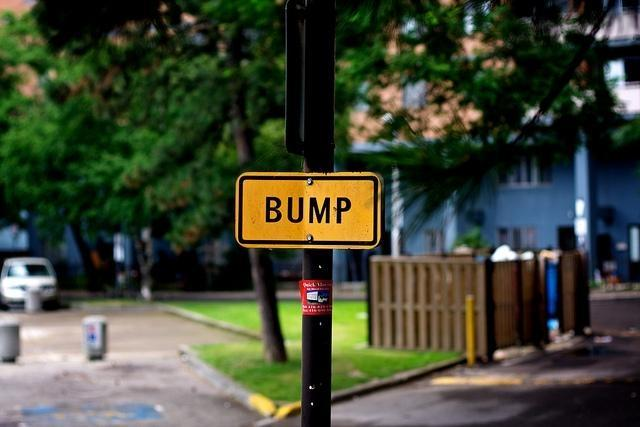car: (1, 257, 58, 311)
